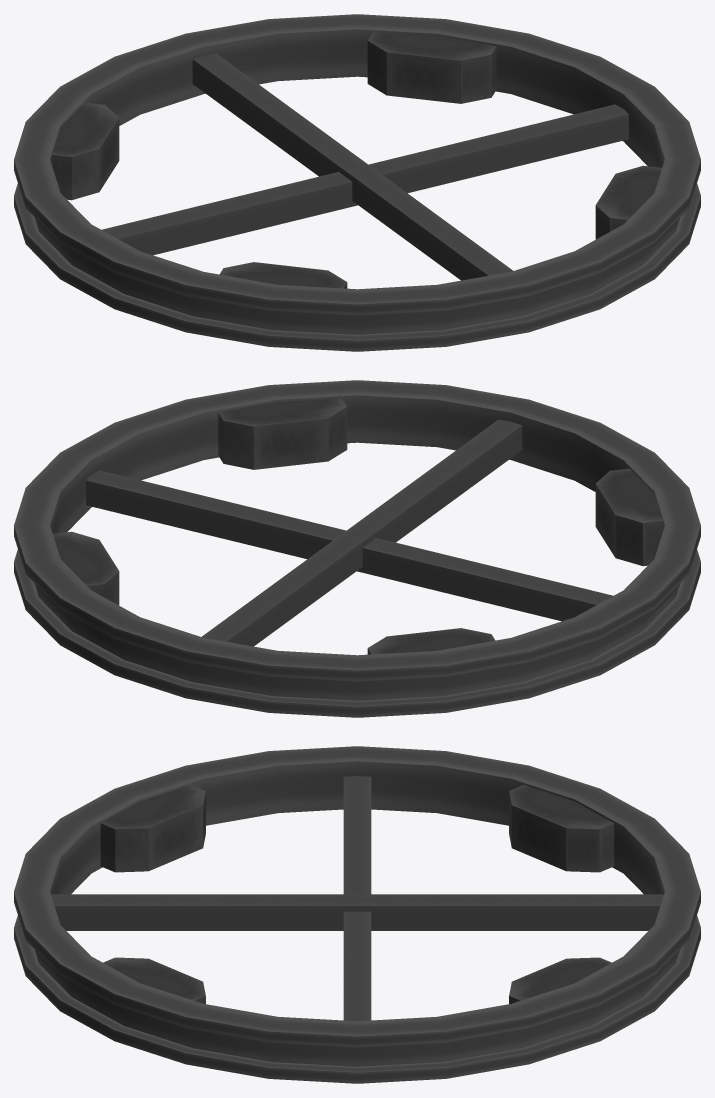
Rendered from bluedog_625mDecoupler.dae.
3 views of the same model, one above another, from view 1: azimuth 30°, elevation 25°; view 2: azimuth 150°, elevation 25°; view 3: azimuth 270°, elevation 25° (orthographic).
Parts seen in each view (by area): view 1: Decoupler625m1, FairingFin6; view 2: Decoupler625m1, FairingFin6; view 3: Decoupler625m1, FairingFin6.
Part boxes in pixels (x1,y1,x2,y2): Decoupler625m1: [14, 14, 700, 351]; FairingFin6: [52, 32, 661, 288]; Decoupler625m1: [14, 380, 700, 717]; FairingFin6: [53, 398, 662, 654]; Decoupler625m1: [14, 746, 700, 1083]; FairingFin6: [100, 785, 614, 1003].
Size of the model in its own units: 0.6466 by 0.0492 by 0.6466.
